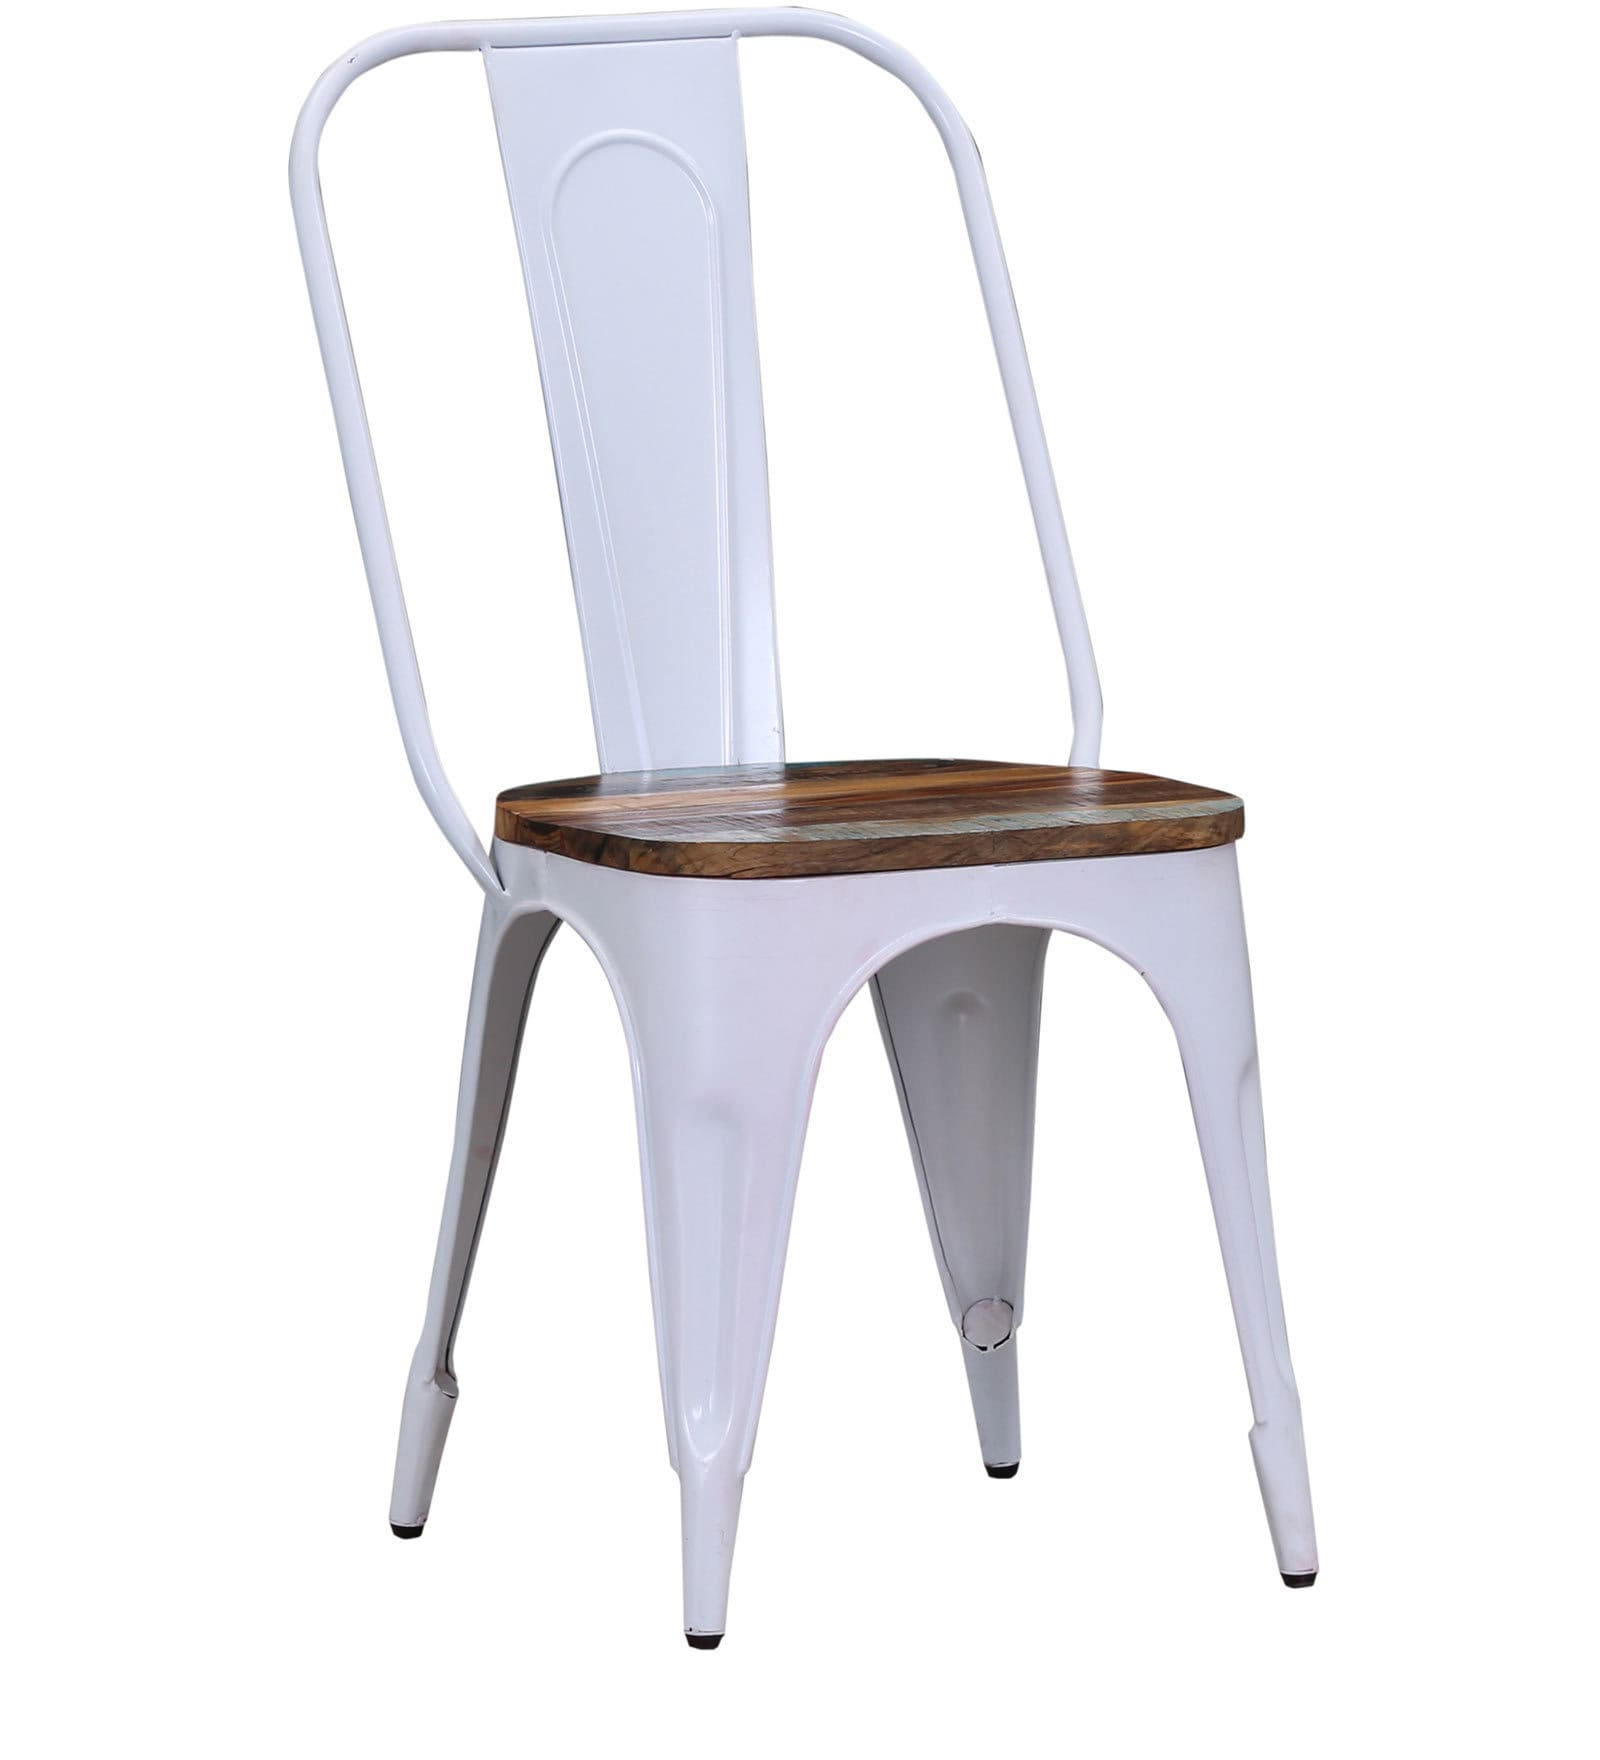Ekati Metal Chair in White Color with Wooden Seat by Bohemiana: (290, 8, 1379, 1671)
